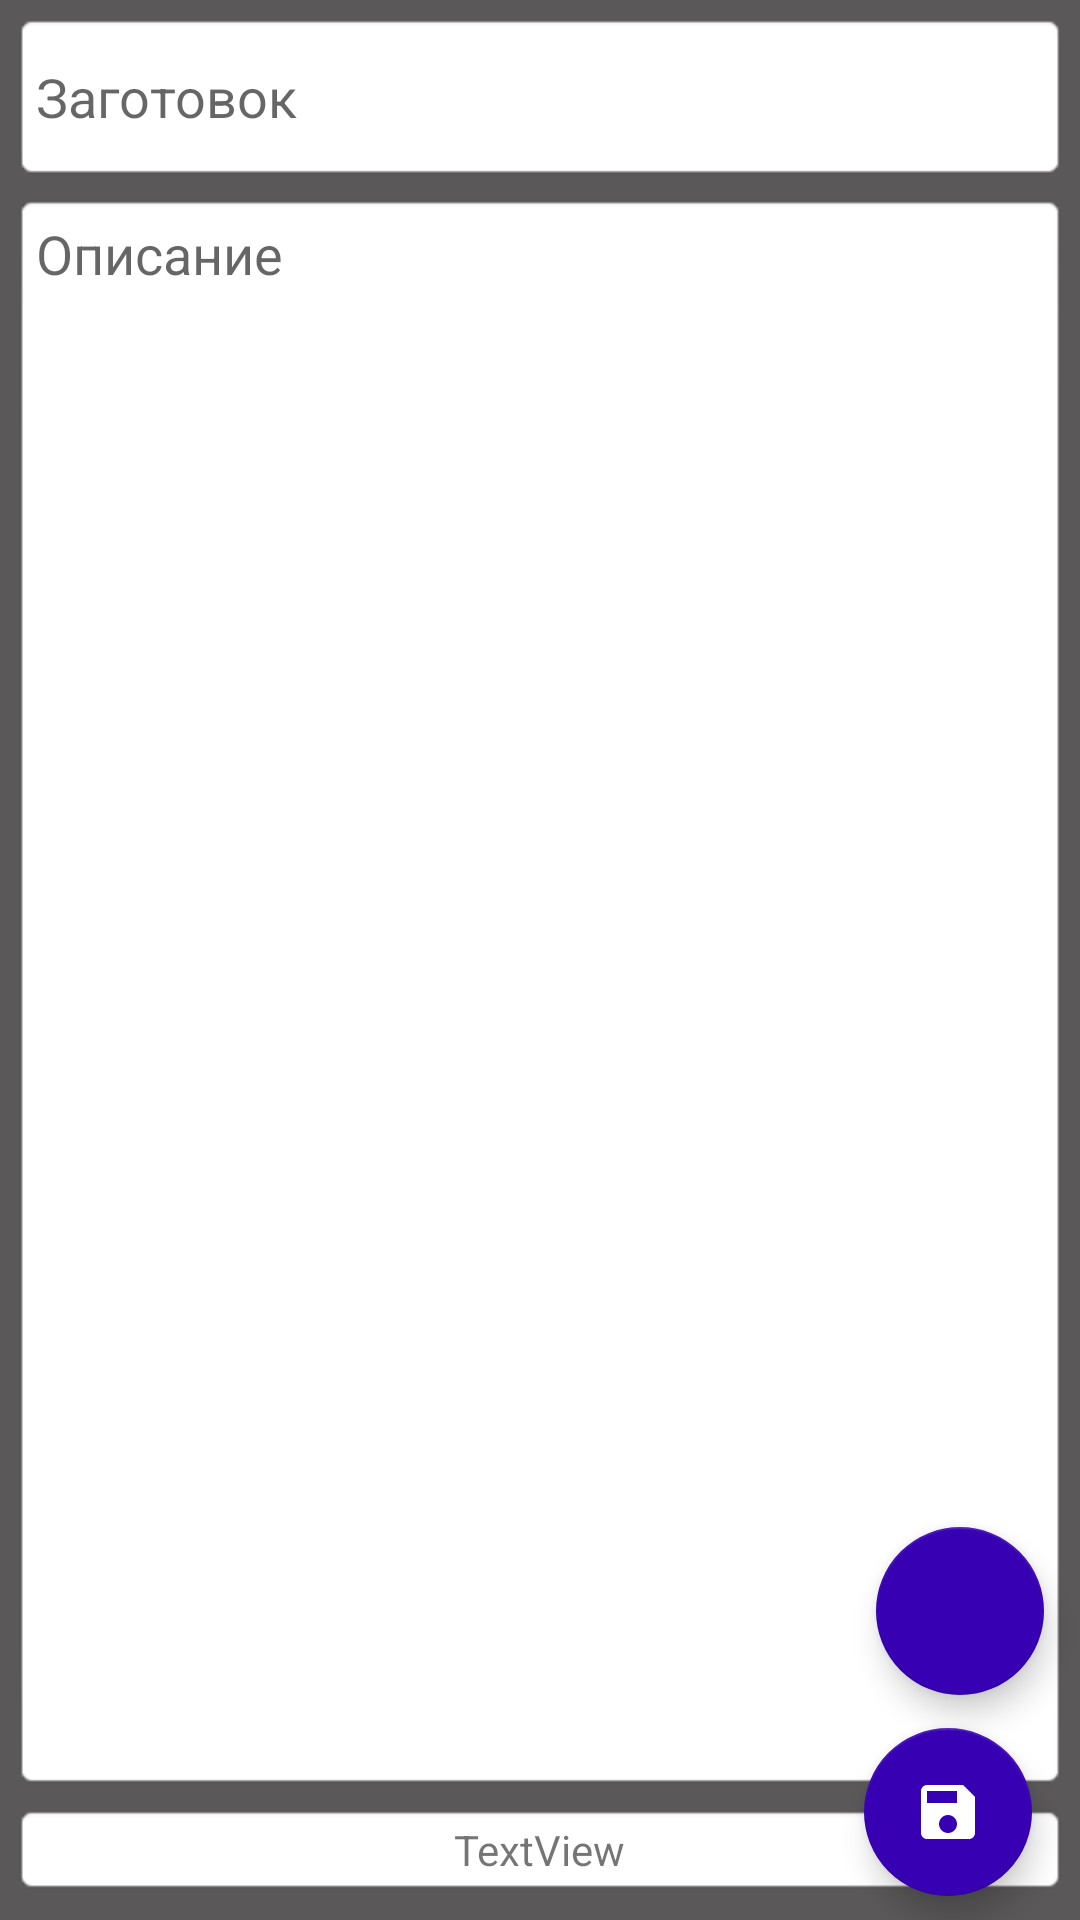

Point at icon controls on the screen. Image size 1080*1920, points as [x,y].
save: [948,1812]
